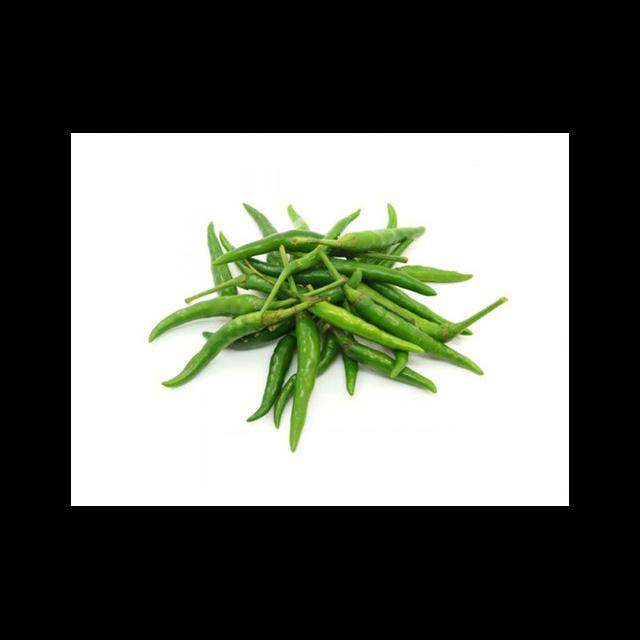chili_pepper: (345, 289, 484, 375), (162, 314, 268, 388), (310, 302, 425, 353), (150, 296, 265, 343), (290, 312, 321, 452), (213, 230, 324, 265), (320, 226, 426, 252), (272, 309, 296, 323)
